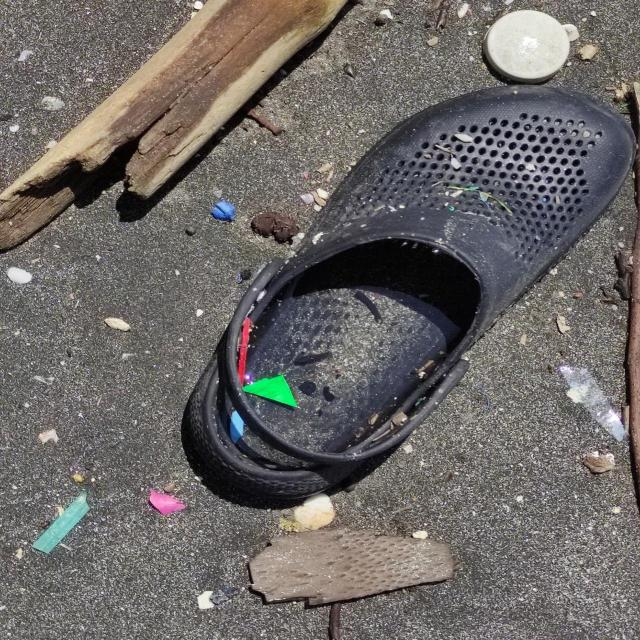litter: (191, 97, 629, 496), (483, 12, 569, 84)
